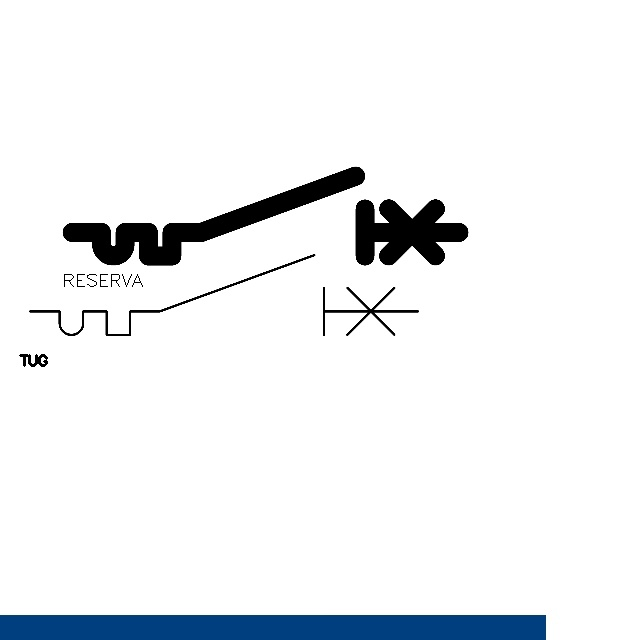interruptor_termomagnetico: (20, 245, 428, 345), (62, 166, 469, 266)
